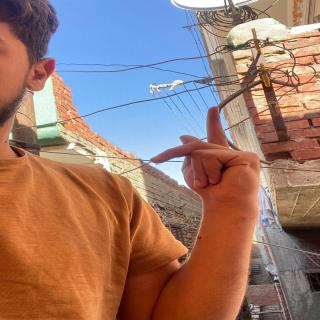DHAA: (147, 105, 262, 187)
